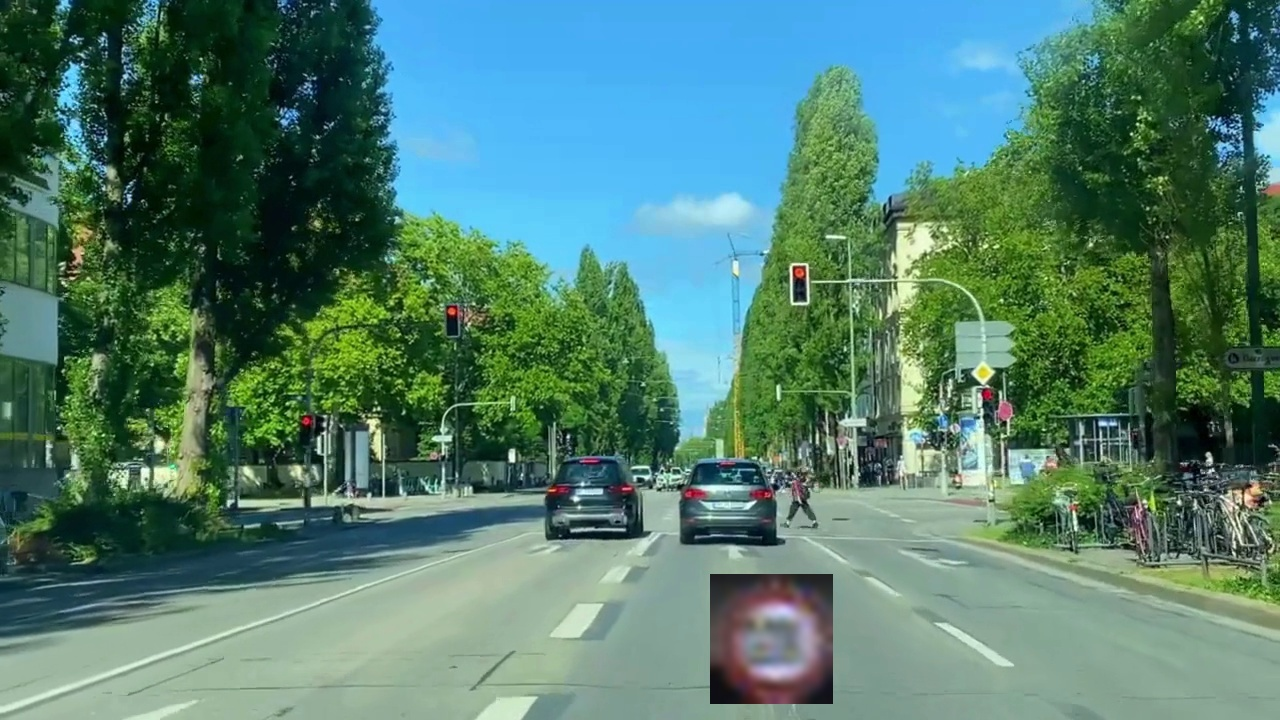Speed 120: (710, 574, 833, 704)
